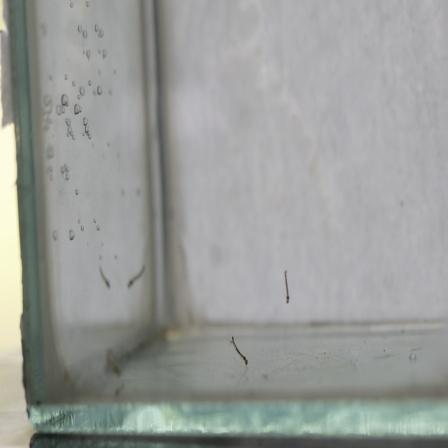Jentik-Nyamuk: (226, 333, 251, 369), (279, 266, 293, 307)
